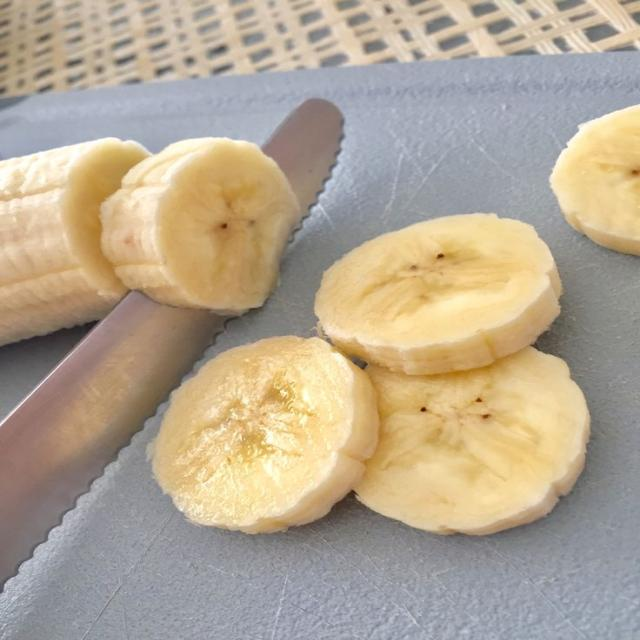banana slice: (152, 336, 379, 533), (357, 348, 589, 534), (315, 214, 560, 374), (102, 138, 300, 314), (0, 139, 148, 344), (551, 106, 639, 254)
